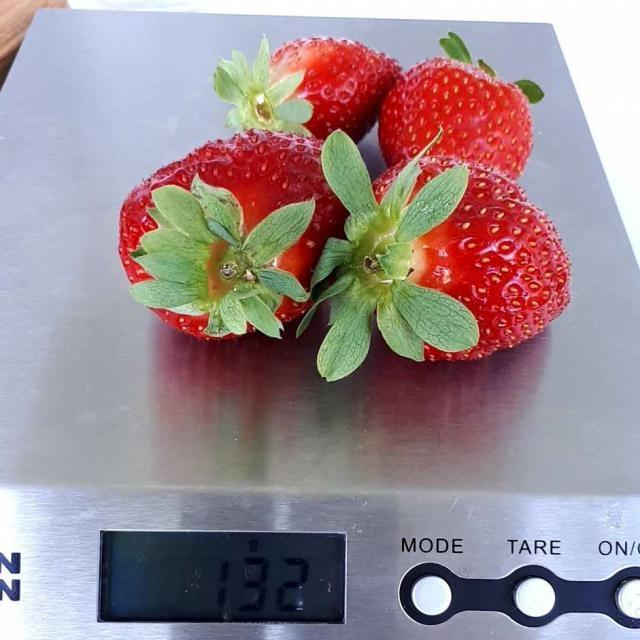strawberries: (124, 39, 561, 369)
